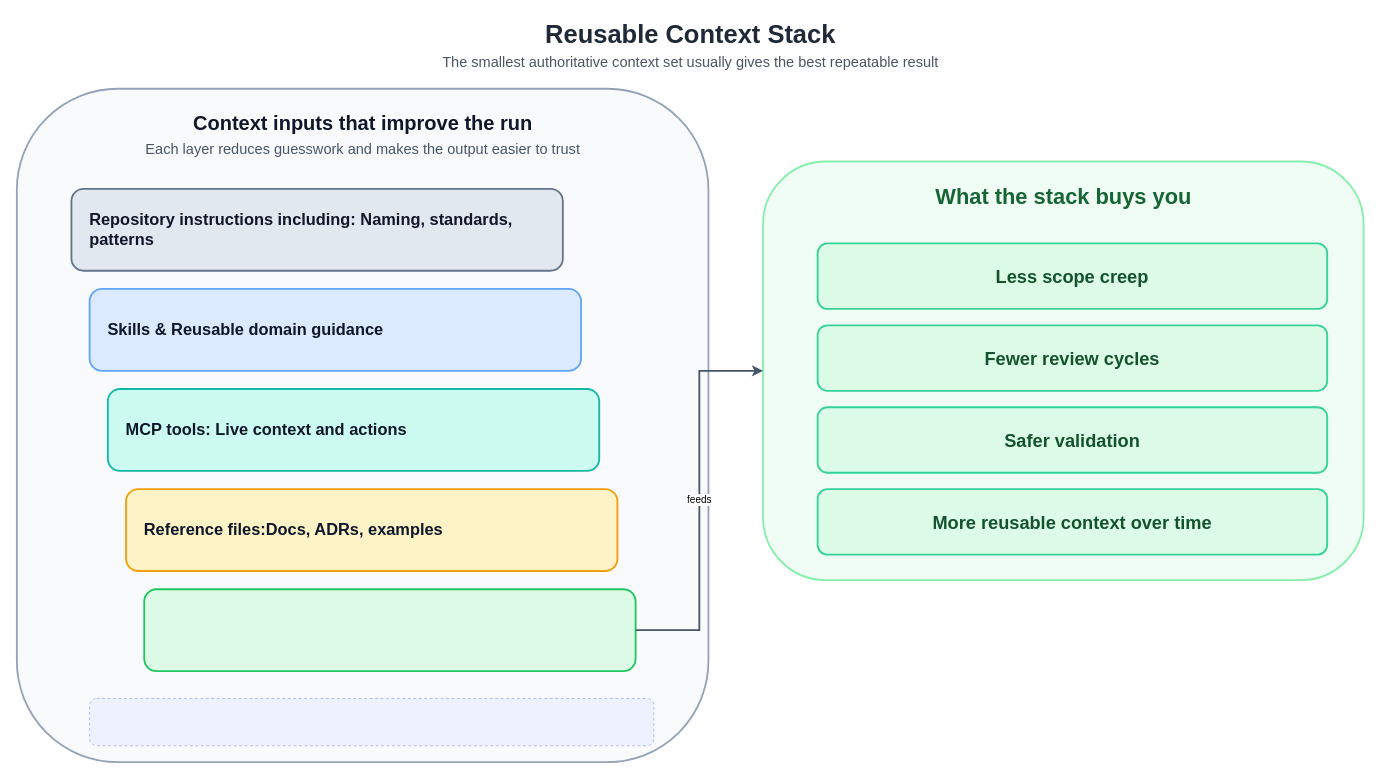
The diagram is 1380 pixels wide and 778 high, and some of its shapes have lost their labels. The centre of each missing label's shape, as x and y in pixels:
Stack these before the prompt, not after the fact.: point (371, 722)
Validation scripts:Tests, lint, policy checks: point (389, 630)
